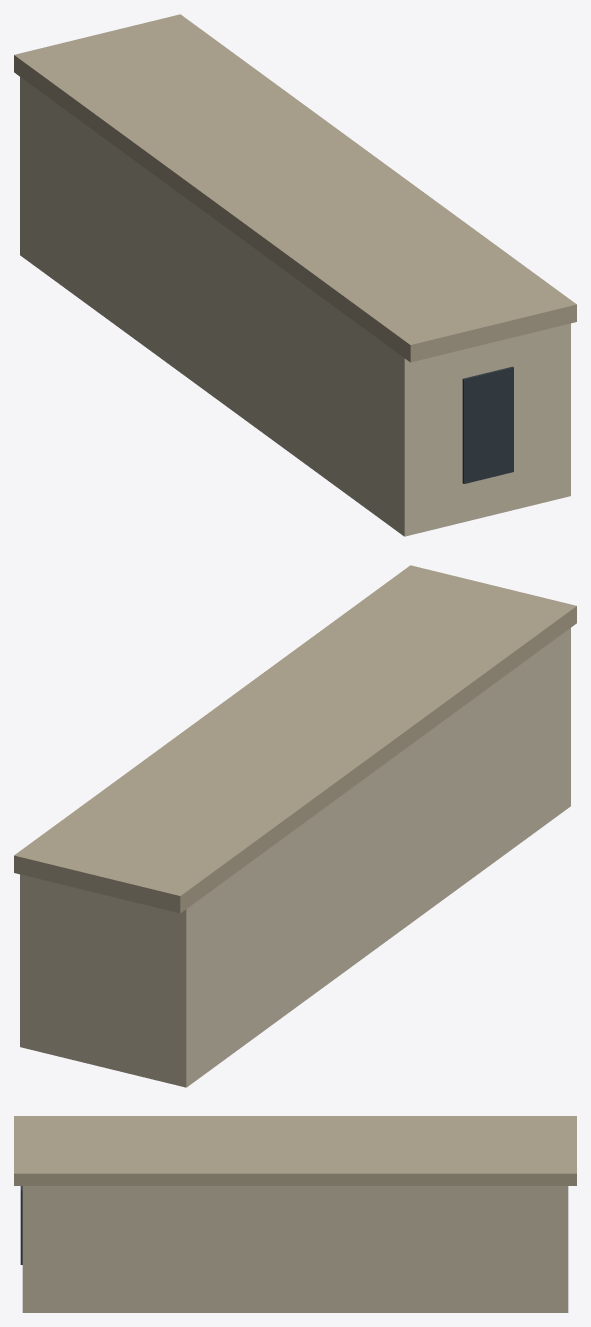
The model's file is bank-bay.glb.
3 views of the same model, one above another, from view 1: azimuth 30°, elevation 25°; view 2: azimuth 150°, elevation 25°; view 3: azimuth 270°, elevation 25° (orthographic). The views are drawn at different scales.
Visible parts, largest first — view 1: bank-bay; view 2: bank-bay; view 3: bank-bay.
Boxes of the visible parts, x1=… form: bank-bay: x1=14, y1=14, x2=576, y2=536; bank-bay: x1=14, y1=565, x2=576, y2=1087; bank-bay: x1=14, y1=1116, x2=576, y2=1312.
Size of the model in its own units: 4 by 4.5 by 16.5.
